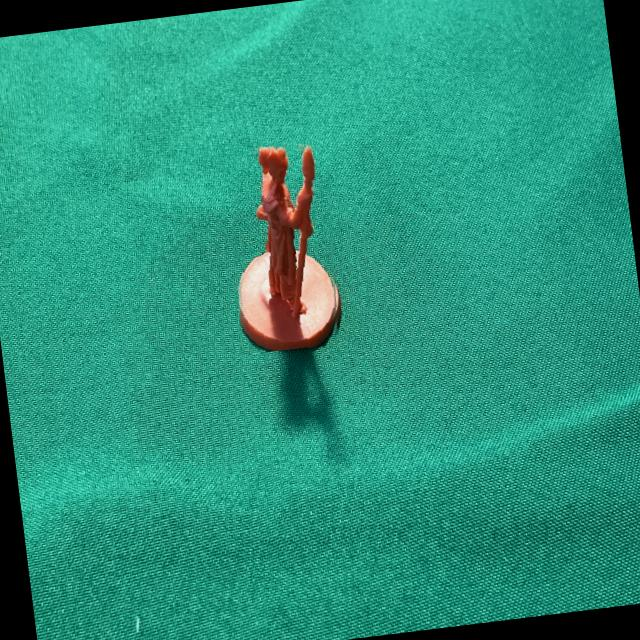amon_follower: (238, 145, 337, 350)
